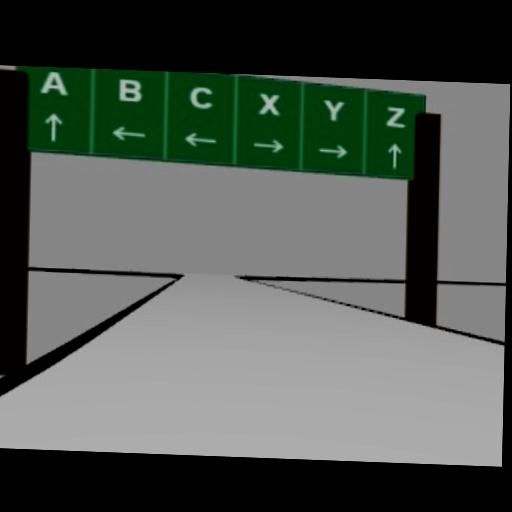A: (39, 69, 68, 95)
B: (116, 77, 142, 101)
C: (188, 83, 214, 108)
Left: (109, 123, 147, 141), (182, 130, 218, 147)
Right: (251, 136, 285, 152), (317, 141, 349, 158)
Straight: (41, 110, 63, 140), (384, 141, 402, 170)
X: (257, 90, 281, 114)
Y: (321, 97, 345, 121)
Z: (384, 103, 406, 127)
